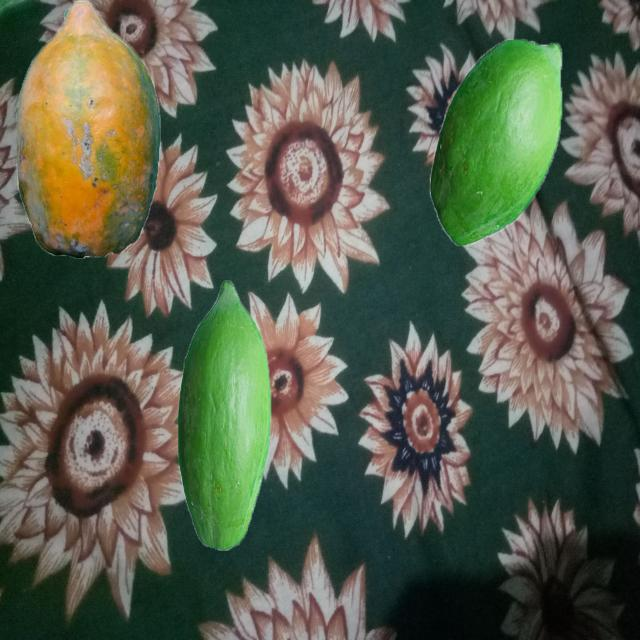Pepaya rippen: (12, 10, 175, 272)
Pepaya unrippen: (436, 26, 560, 246), (174, 280, 272, 558)
